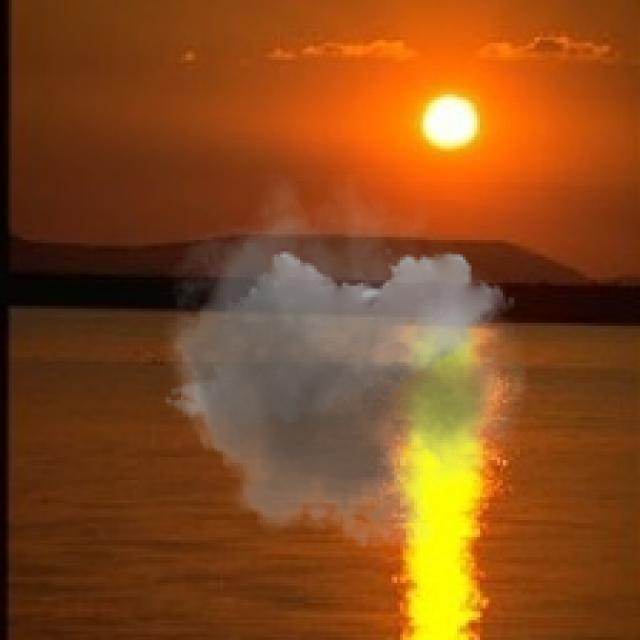smoke: (152, 172, 528, 568)
